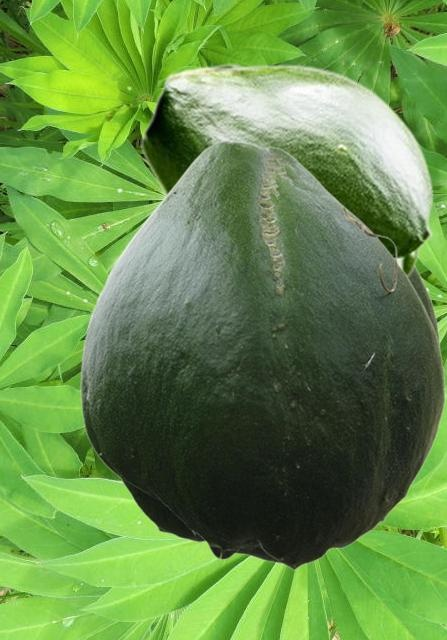sayote: (80, 140, 444, 570), (140, 63, 433, 277)
